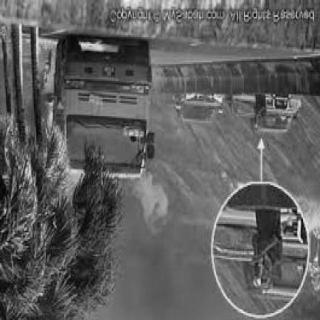Fire: (19, 38, 59, 162), (133, 172, 169, 238), (64, 173, 136, 196), (80, 39, 116, 57)
